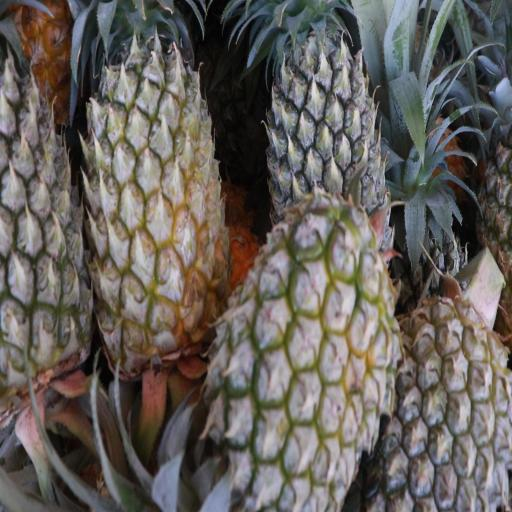------------------------------: (87, 0, 223, 367), (214, 219, 385, 501)
